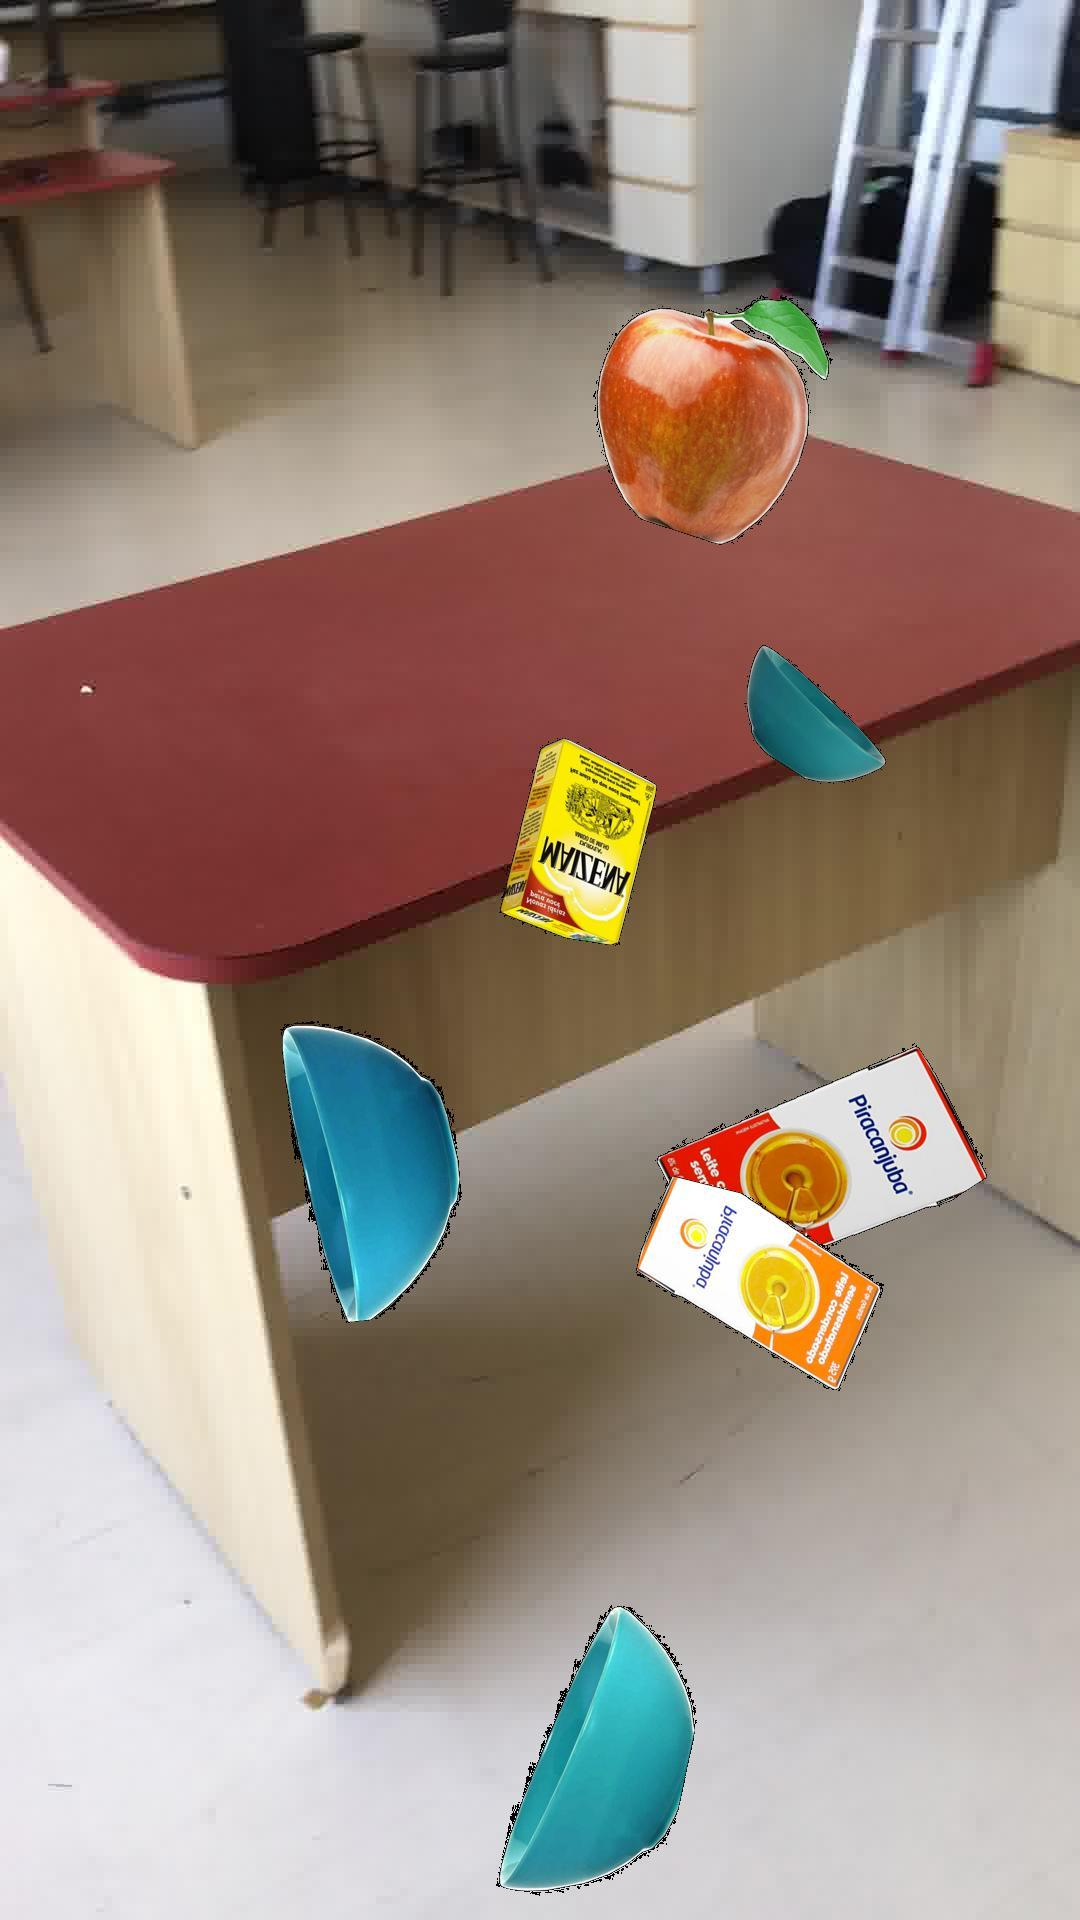apple: (596, 294, 828, 543)
bowl: (495, 1605, 695, 1895), (278, 1019, 460, 1321), (742, 644, 885, 782)
